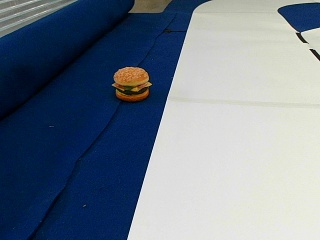burger: (113, 65, 151, 100)
